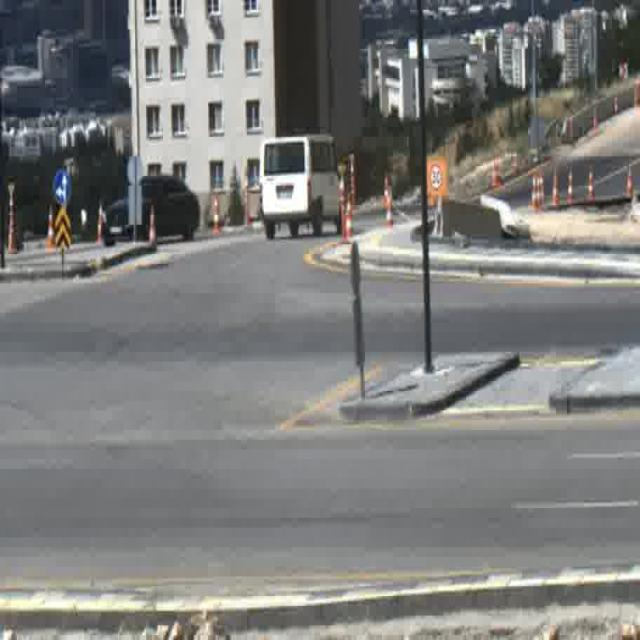Car: (260, 135, 342, 241), (102, 175, 200, 248)
